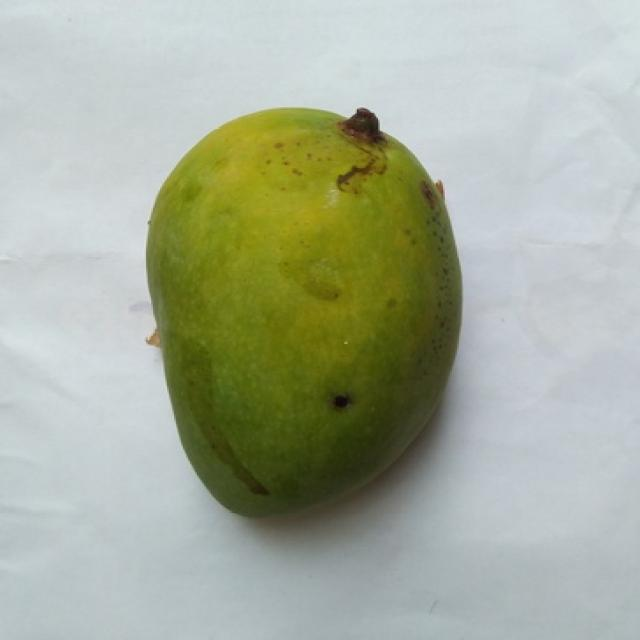Mango: (148, 109, 461, 516)
